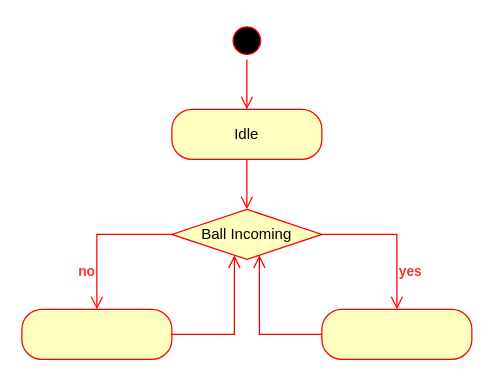
The diagram is 494 pixels wide and 381 high, and some of its shapes have lost their labels. Each missing label, with the box of its shape:
Intercept: (321, 308, 472, 359)
Prepare: (21, 308, 172, 359)
